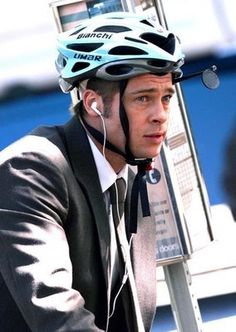helmet: (56, 12, 185, 161)
